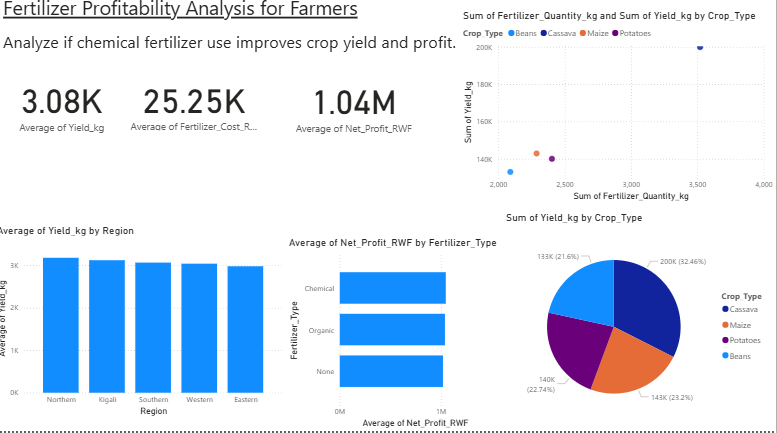

The page's visual inventory and layout, read from the dashboard file:
{"tool":"powerbi","page":{"name":"dashboard","canvas":[1280,720],"ordinal":0},"visuals":[{"type":"textbox","box":[10.1,0,629.9,58.8],"z":0},{"type":"textbox","box":[10.1,58.8,856.7,70.6],"z":1},{"type":"card","fields":{"Values":["Avg(synthetic_fertilizer_dataset.Yield_kg)"]},"box":[0,129.3,221.7,110.9],"z":2},{"type":"card","fields":{"Values":["Avg(synthetic_fertilizer_dataset.Fertilizer_Cost_RWF)"]},"box":[216.7,134.4,221.7,99.1],"z":3},{"type":"card","fields":{"Values":["Avg(synthetic_fertilizer_dataset.Net_Profit_RWF)"]},"box":[478.7,129.3,221.7,114.2],"z":4},{"type":"clusteredColumnChart","fields":{"Category":["synthetic_fertilizer_dataset.Region"],"Y":["Avg(synthetic_fertilizer_dataset.Yield_kg)"]},"box":[0,381.4,478,319.2],"z":5},{"type":"clusteredBarChart","fields":{"Category":["synthetic_fertilizer_dataset.Fertilizer_Type"],"Y":["Avg(synthetic_fertilizer_dataset.Net_Profit_RWF)"]},"box":[478,401,355.2,319.2],"z":6},{"type":"scatterChart","fields":{"X":["Sum(synthetic_fertilizer_dataset.Fertilizer_Quantity_kg)"],"Y":["Sum(synthetic_fertilizer_dataset.Yield_kg)"],"Series":["synthetic_fertilizer_dataset.Crop_Type"]},"box":[762.8,29.5,517.2,319.2],"z":7},{"type":"pieChart","fields":{"Category":["synthetic_fertilizer_dataset.Crop_Type"],"Y":["Sum(synthetic_fertilizer_dataset.Yield_kg)"]},"box":[833.1,360.1,446.9,360.1],"z":8}]}

Visuals, with their boxes in screenshot pixels (x1, y1, x2, y2), scaled from the page's 1280x720 canvas onto the 777x433 screenshot:
textbox: bbox=[6, 0, 388, 35]
textbox: bbox=[6, 35, 526, 78]
card - Avg(synthetic_fertilizer_dataset.Yield_kg): bbox=[0, 78, 135, 144]
card - Avg(synthetic_fertilizer_dataset.Fertilizer_Cost_RWF): bbox=[132, 81, 266, 140]
card - Avg(synthetic_fertilizer_dataset.Net_Profit_RWF): bbox=[291, 78, 425, 146]
clusteredColumnChart - synthetic_fertilizer_dataset.Region x Avg(synthetic_fertilizer_dataset.Yield_kg): bbox=[0, 229, 290, 421]
clusteredBarChart - synthetic_fertilizer_dataset.Fertilizer_Type x Avg(synthetic_fertilizer_dataset.Net_Profit_RWF): bbox=[290, 241, 506, 432]
scatterChart - Sum(synthetic_fertilizer_dataset.Fertilizer_Quantity_kg) x Sum(synthetic_fertilizer_dataset.Yield_kg): bbox=[463, 18, 776, 210]
pieChart - synthetic_fertilizer_dataset.Crop_Type x Sum(synthetic_fertilizer_dataset.Yield_kg): bbox=[506, 217, 776, 432]
